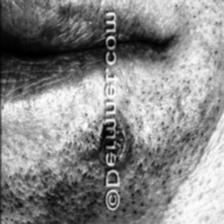Potentially Malignant Skin Tumors: (96, 117, 126, 167)
